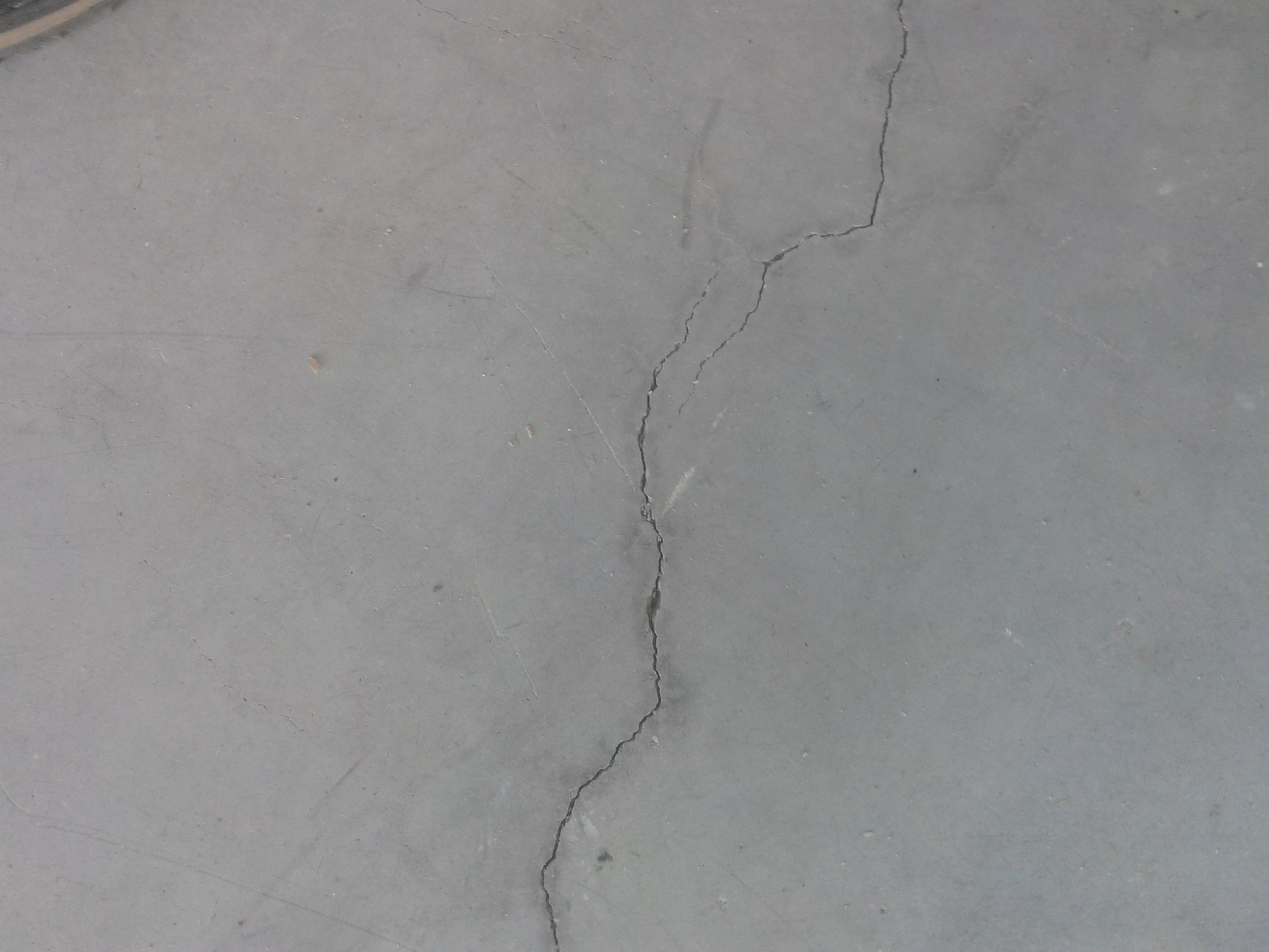Vertical Crack: (533, 2, 912, 945)
